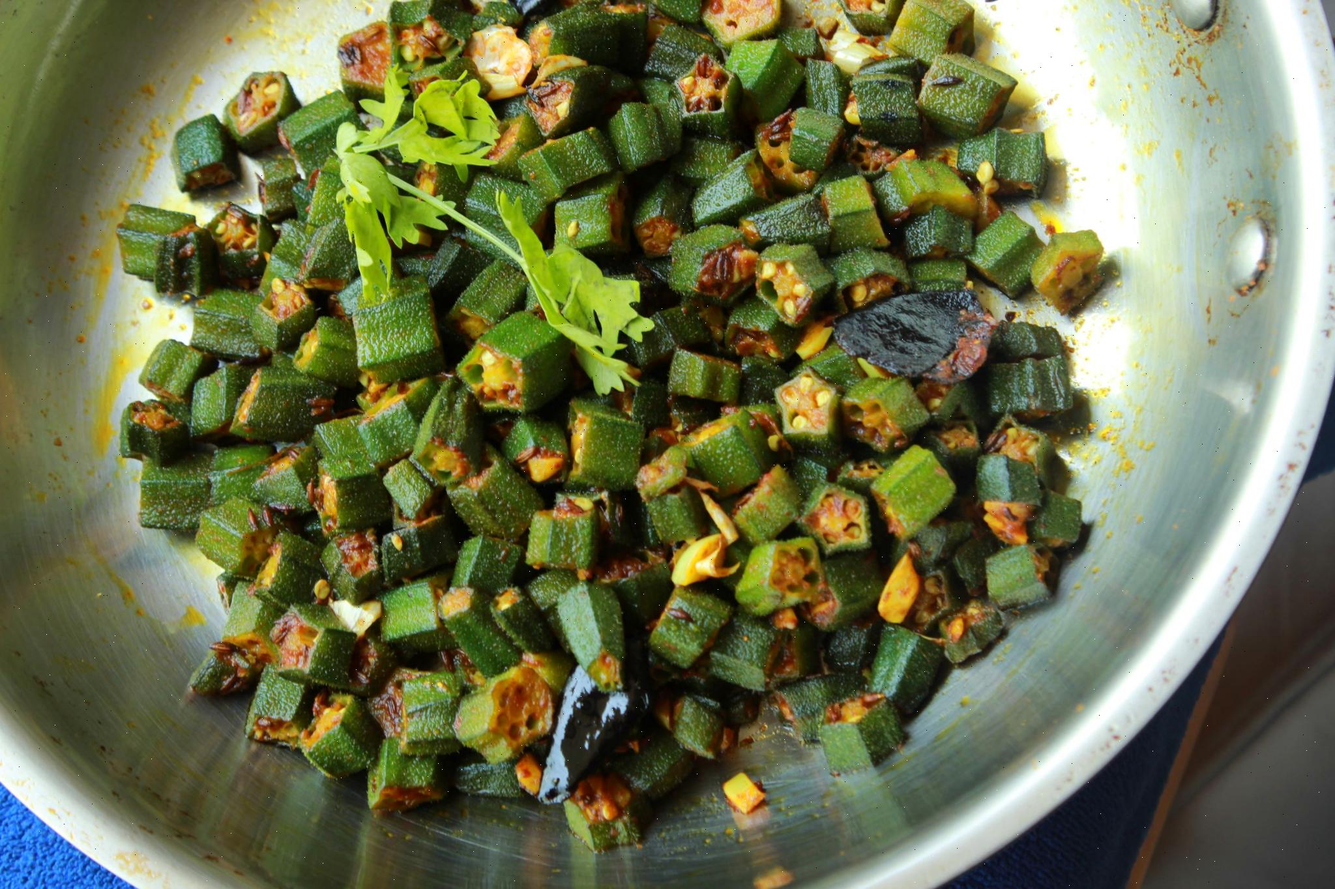bhindi: (154, 42, 1068, 718)
